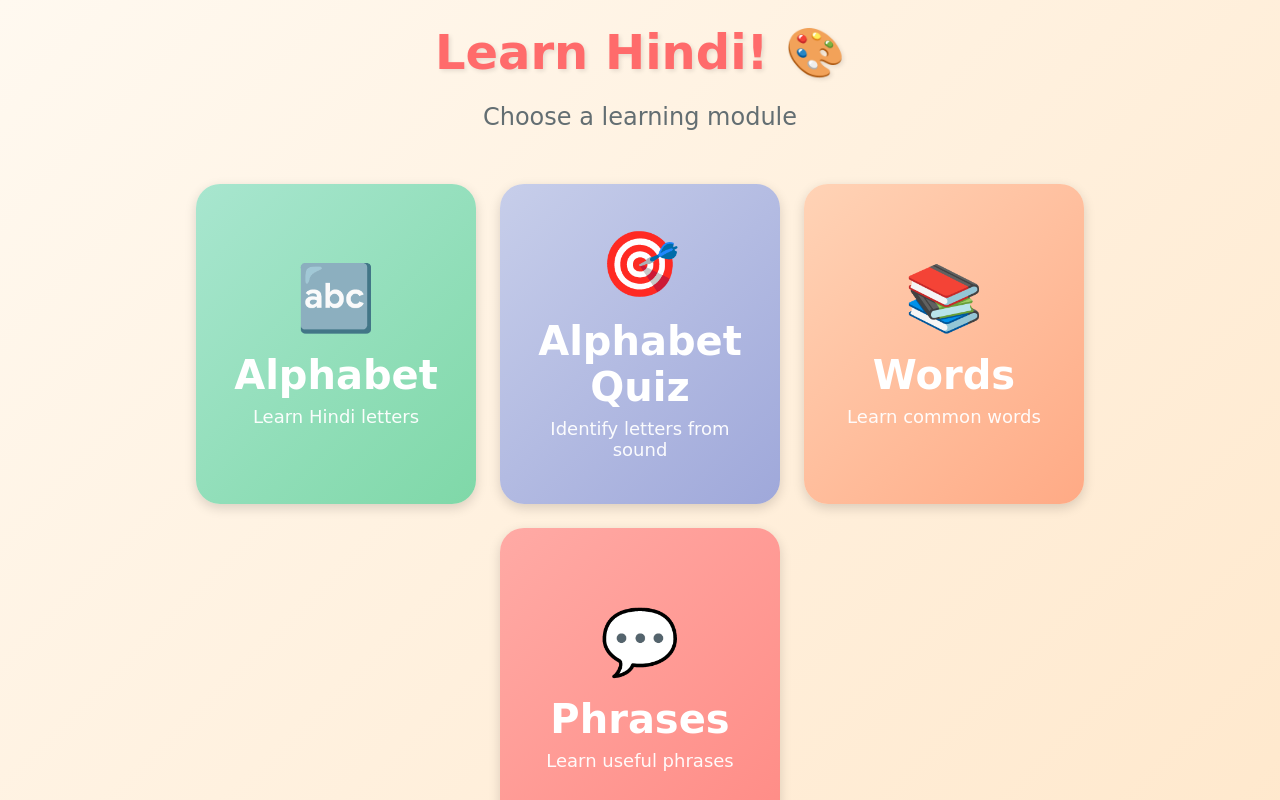
Test case: Offline Functionality and Asset Loading › Application Flow › should navigate to alphabet quiz module
This screenshot has width=1280, height=800.
Click the button with aria-label "Test your Hindi alphabet".
click(640, 344)  # box 500,184 -> 780,504
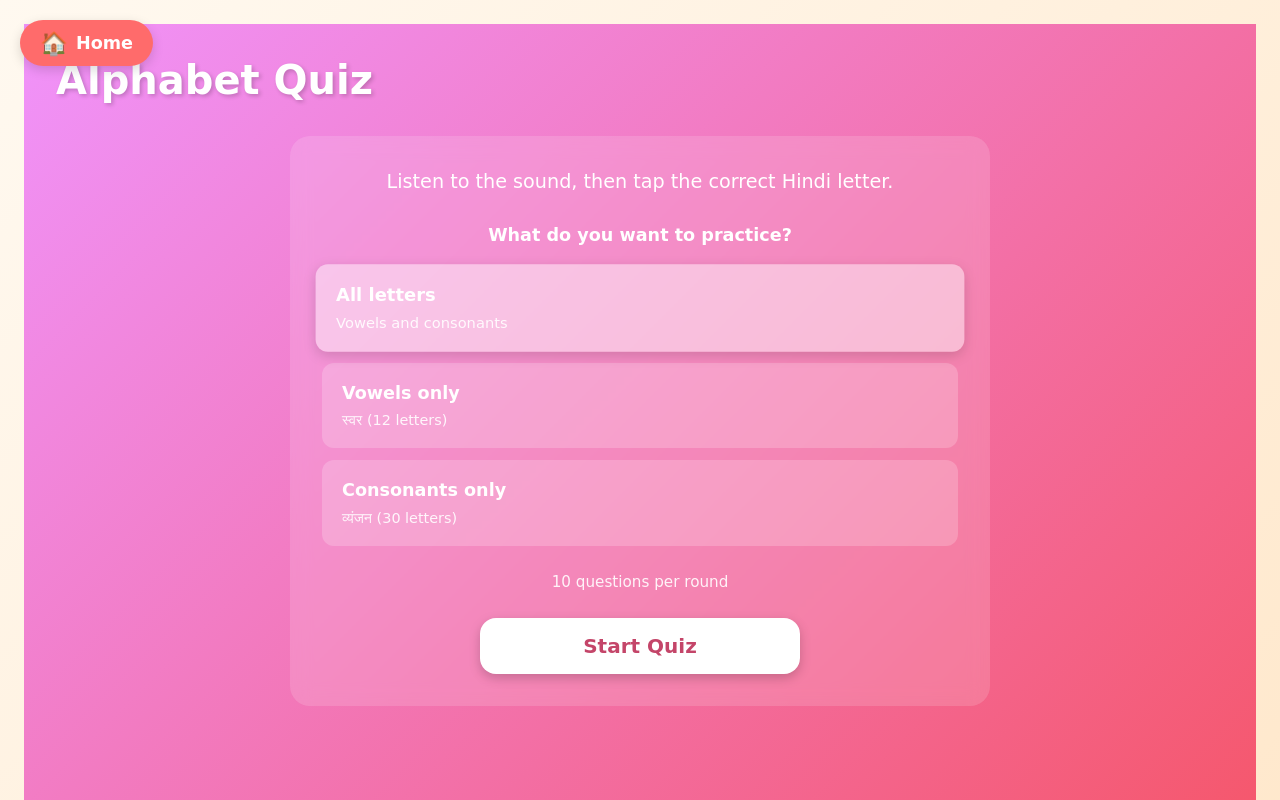
Check: the heading "Alphabet Quiz" is shown, box 56,56 -> 373,104
Check: the button "Start Quiz" is shown, box 480,618 -> 800,674
